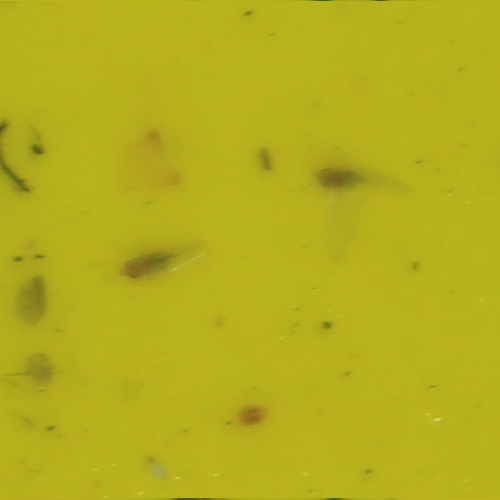Glycaspis: (119, 252, 178, 280)
